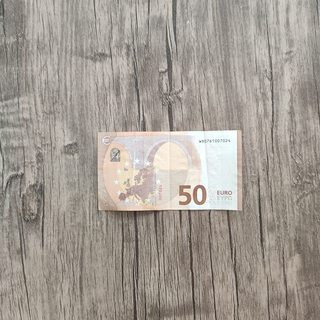50EUROBack: (96, 128, 243, 213)
